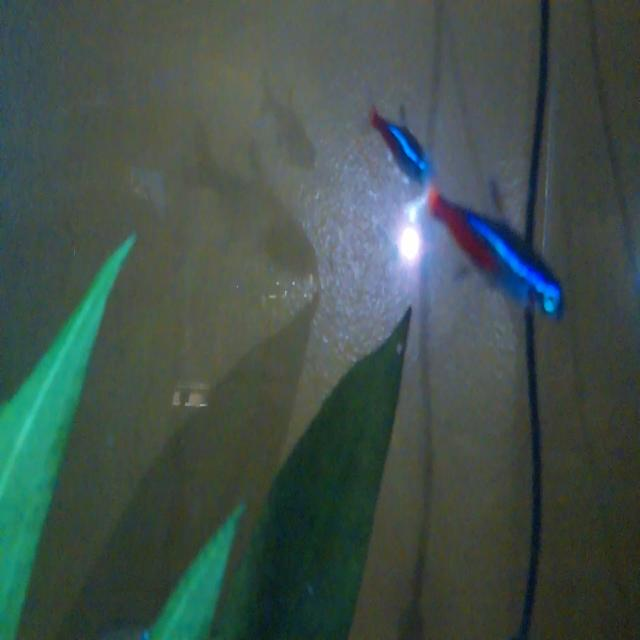fish: (427, 178, 569, 324), (363, 92, 440, 187)
